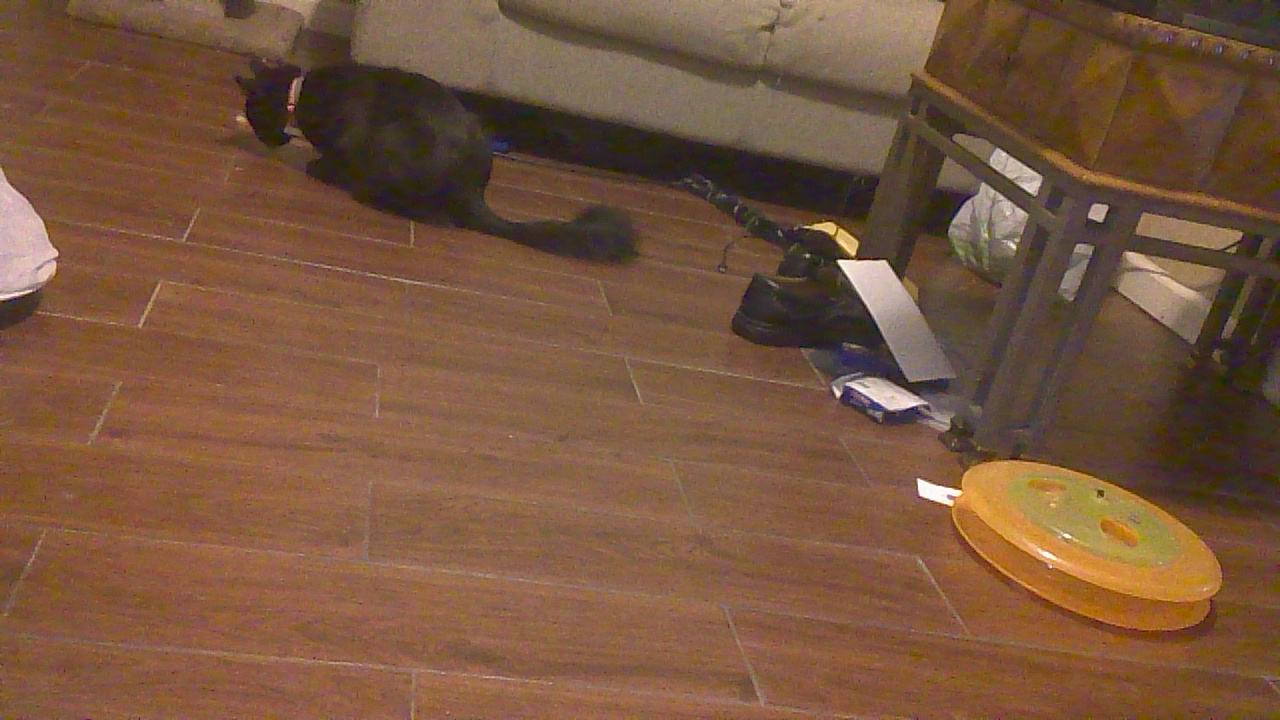cat: (224, 52, 644, 265)
